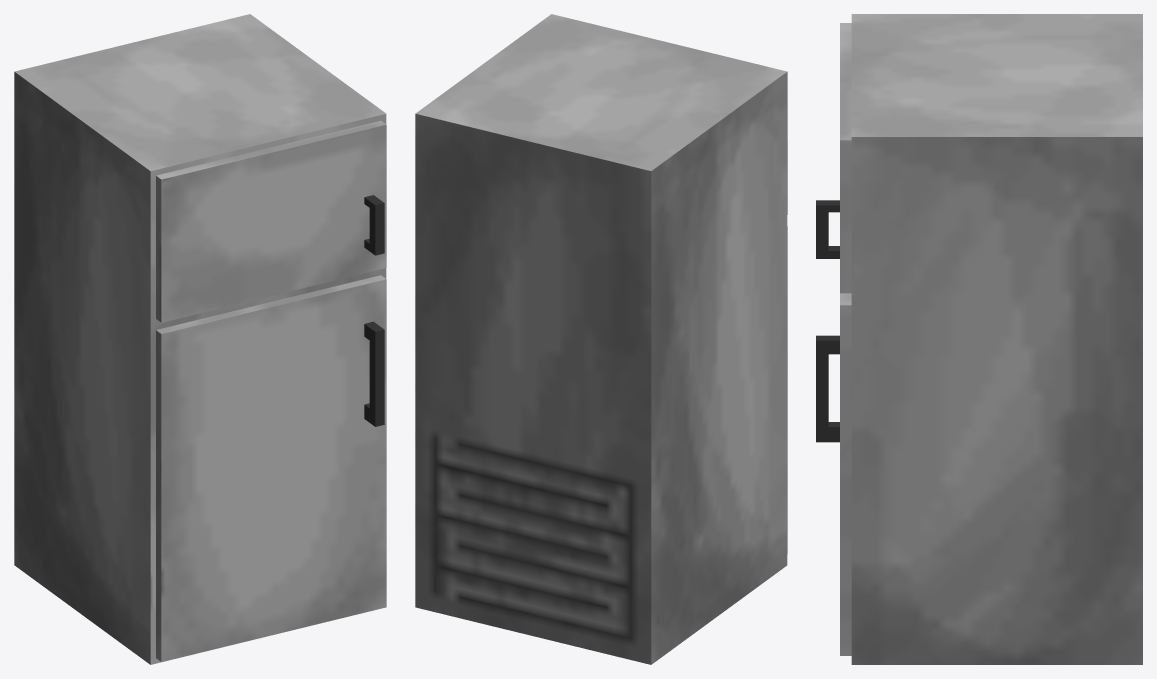
File: Refrigerator.obj
3 renders of one model, left to right at view 1: azimuth 30°, elevation 25°; view 2: azimuth 150°, elevation 25°; view 3: azimuth 270°, elevation 25°, orthographic. The views are drawn at different scales.
Visible parts, largest first — view 1: Refigerator_Material.006, Refigerator_Handle; view 2: Refigerator_Material.006; view 3: Refigerator_Material.006, Refigerator_Handle.
Boxes of the visible parts, x1,y1,x2,y2 form: Refigerator_Material.006: (14,14,386,664); Refigerator_Handle: (364,195,384,426); Refigerator_Material.006: (415,14,787,664); Refigerator_Material.006: (840,14,1142,664); Refigerator_Handle: (816,200,839,442).
Size of the model in its own units: 8.06 by 16.13 by 9.05.
